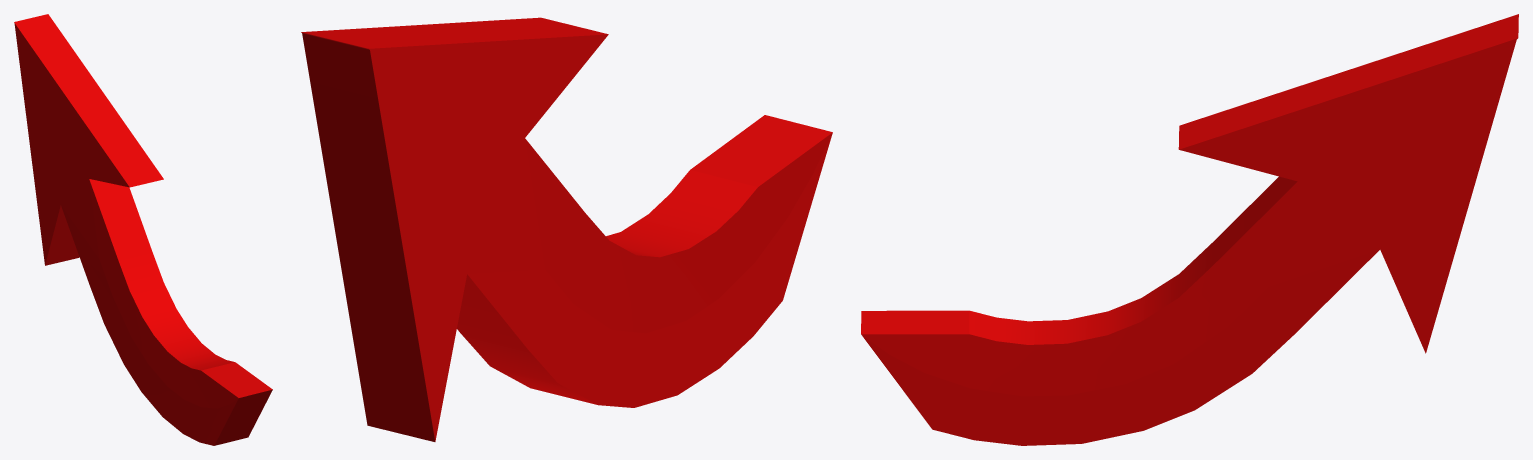
File: X-Axis-Rotation.fbx
3 views of the same model, side by side, from view 1: azimuth 30°, elevation 25°; view 2: azimuth 150°, elevation 25°; view 3: azimuth 270°, elevation 25° (orthographic). The views are drawn at different scales.
Parts seen in each view (by area): view 1: polySurface17; view 2: polySurface17; view 3: polySurface17.
Part boxes in pixels (bbox=[...]): polySurface17: bbox=[14, 14, 272, 445]; polySurface17: bbox=[301, 17, 832, 441]; polySurface17: bbox=[861, 14, 1518, 445].
Size of the model in its own units: 0.3433 by 2.47 by 3.59.
